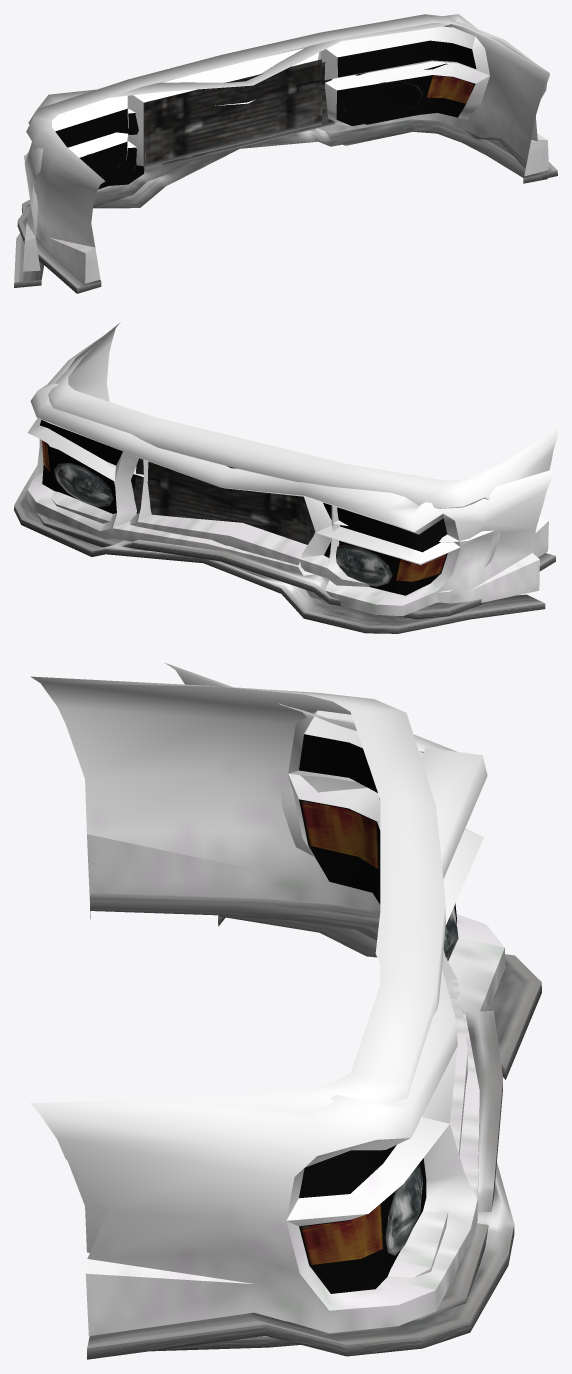
The model's file is fbmp_a_s.glb.
The picture shows the model from 3 angles, top to bottom: view 1: azimuth 30°, elevation 25°; view 2: azimuth 150°, elevation 25°; view 3: azimuth 270°, elevation 25°; orthographic projection. The views are drawn at different scales.
Visible parts, largest first — view 1: fbmp_a_s, fbmp_a_s_dam; view 2: fbmp_a_s_dam, fbmp_a_s; view 3: fbmp_a_s_dam, fbmp_a_s.
Boxes of the visible parts, box(x1,y1,x2,y2) form: fbmp_a_s: box(17, 14, 549, 293); fbmp_a_s_dam: box(14, 14, 557, 287); fbmp_a_s_dam: box(14, 324, 554, 633); fbmp_a_s: box(35, 322, 557, 619); fbmp_a_s_dam: box(30, 662, 541, 1359); fbmp_a_s: box(30, 676, 502, 1351).
Bounding box in the file's own units: 2.45 × 0.6386 × 1.09.
5 materials, 4 textured.
